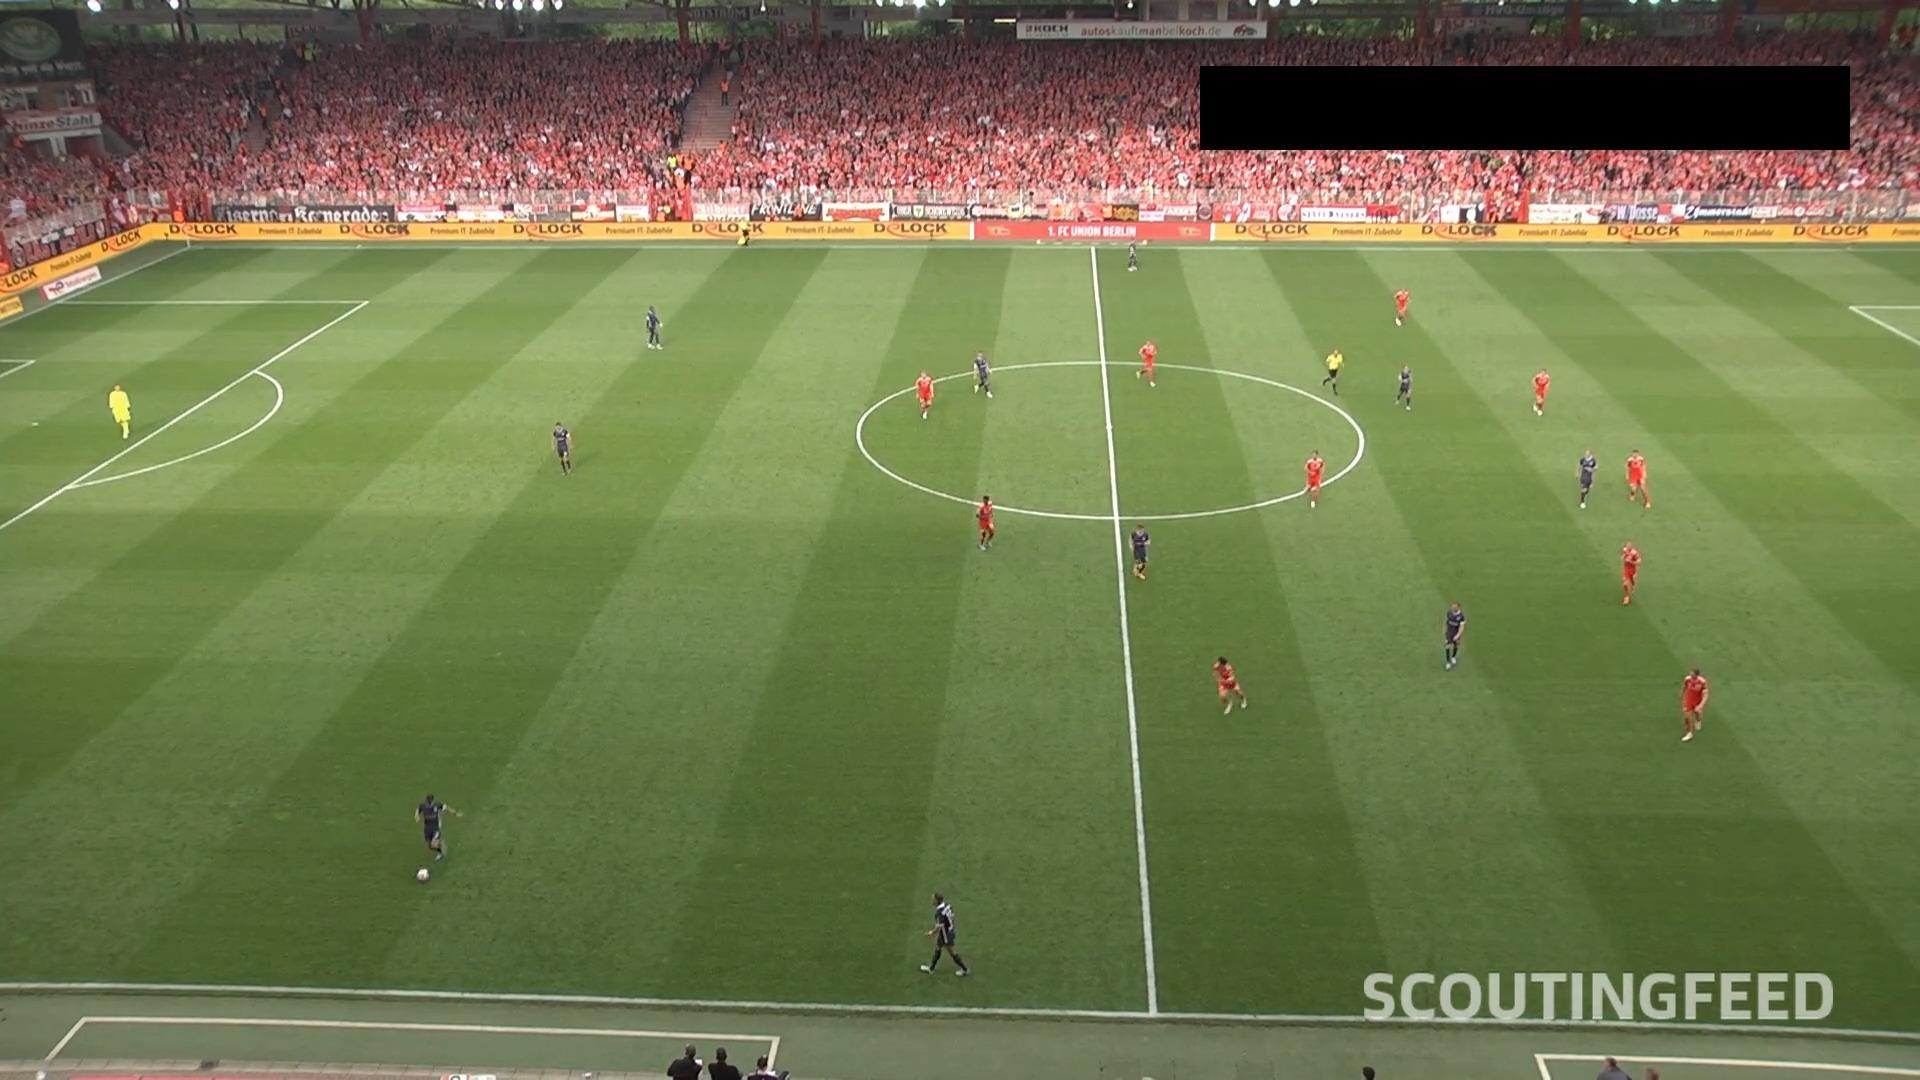ball: (415, 866, 430, 884)
